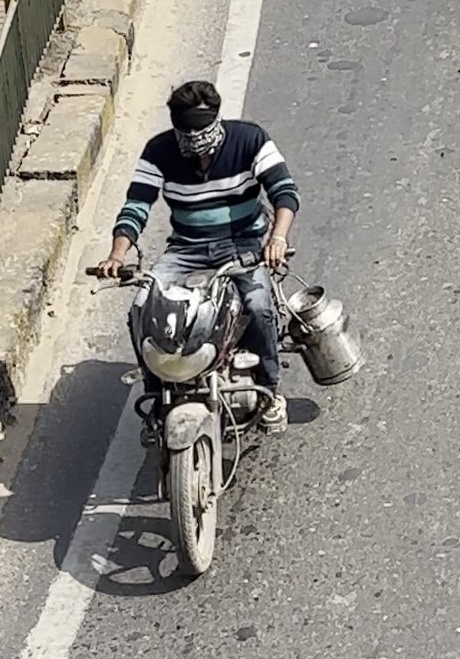BikeWithRider: (81, 64, 367, 589)
NoHelmet: (158, 81, 232, 159)
